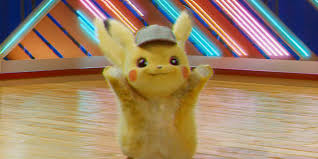pikachu: (97, 12, 208, 159)
